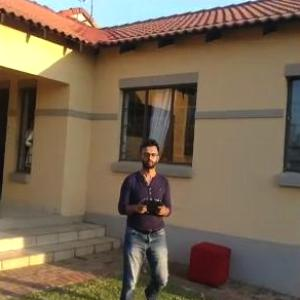follow: (117, 135, 184, 299)
